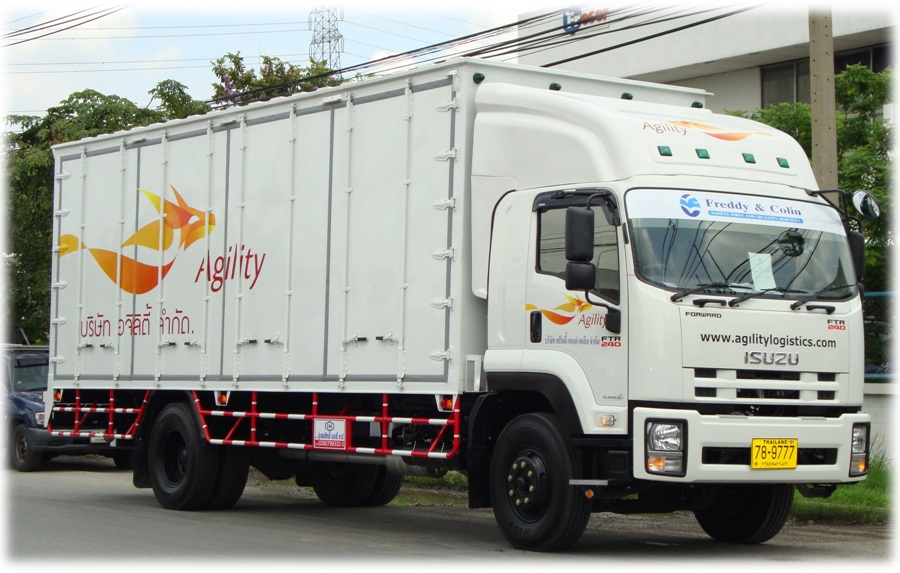truck: (43, 56, 873, 553)
